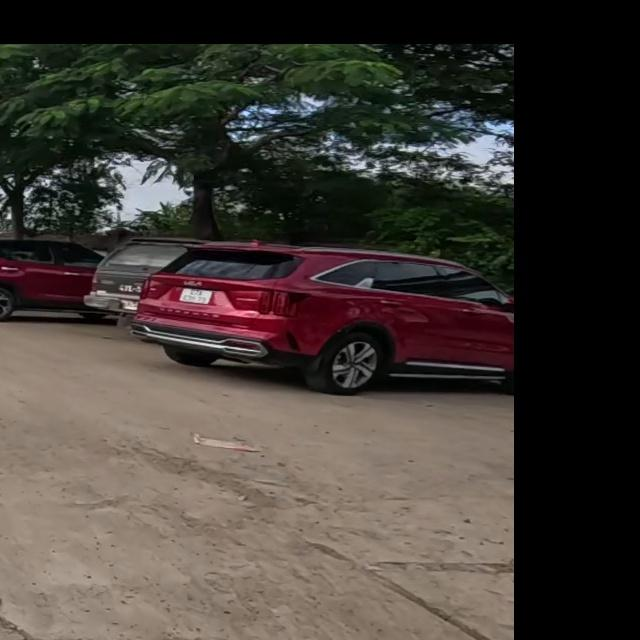license-plate: (179, 287, 213, 305)
